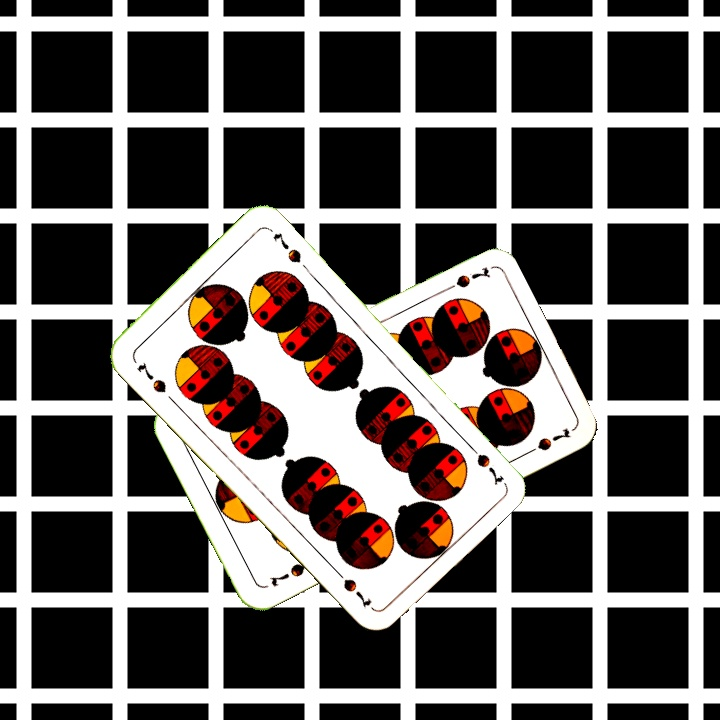S7: (461, 437, 506, 487), (436, 262, 492, 296), (133, 358, 169, 396), (266, 559, 308, 590)
